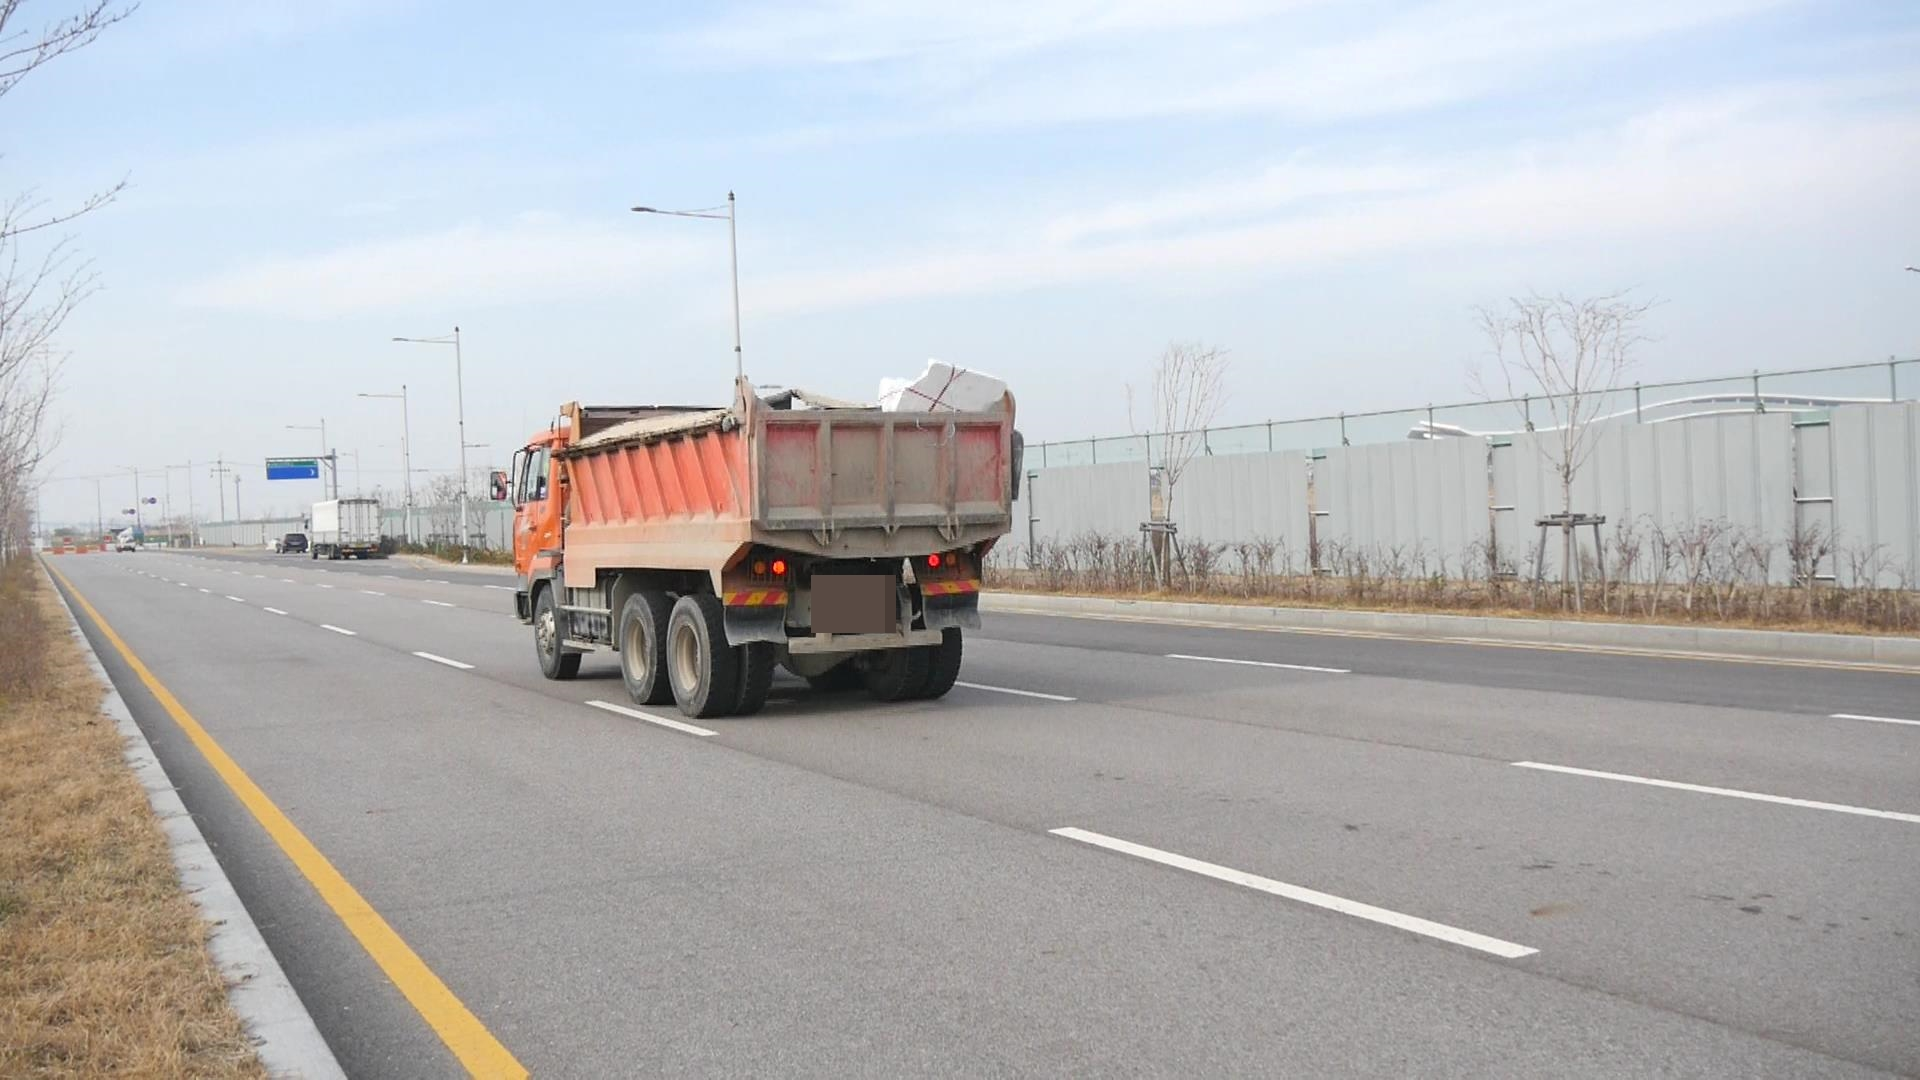불법차량: (489, 358, 1024, 718)
